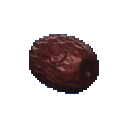gd: (18, 21, 117, 114)
